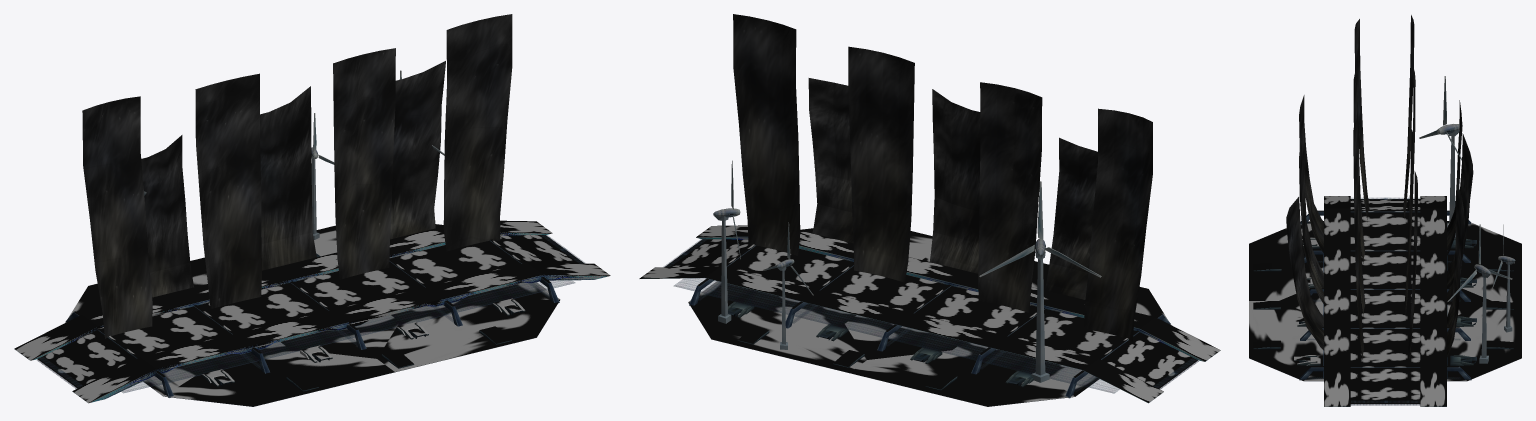
File: floor-flying.glb
The picture shows the model from 3 angles, left to right: view 1: azimuth 30°, elevation 25°; view 2: azimuth 150°, elevation 25°; view 3: azimuth 270°, elevation 25°; orthographic projection. The views are drawn at different scales.
Parts seen in each view (by area): view 1: NShadow1 (×2), StgStadium00Hikou (×5), NShadow2, kazeBA04, kazeBA01, kazeBA02, kazeBA03; view 2: StgStadium00Hikou (×7), NShadow1 (×2), NShadow2, kazeBA03, kazeBA04, kazeBA01, kazeBA02, HikouHusya2, Hane01, HikouHusya3; view 3: NShadow1 (×2), NShadow2, StgStadium00Hikou (×6), kazeBA02, kazeBA04, kazeBA03, kazeBA01, HikouHusya3, HikouHusya2, HikouHusya1, Hane01, Hane01_1.
Part boxes in pixels (x1,y1,x2,y2): NShadow1 (×2): (14, 220, 610, 402); StgStadium00Hikou (×5): (31, 61, 602, 401); NShadow2: (65, 224, 560, 406); kazeBA04: (443, 14, 512, 251); kazeBA01: (195, 73, 261, 308); kazeBA02: (82, 96, 152, 338); kazeBA03: (333, 48, 395, 279); StgStadium00Hikou (×7): (642, 78, 1204, 402); NShadow1 (×2): (639, 225, 1220, 402); NShadow2: (688, 228, 1170, 406); kazeBA03: (848, 46, 914, 282); kazeBA04: (733, 14, 800, 255); kazeBA01: (978, 82, 1042, 312); kazeBA02: (1084, 108, 1152, 341); HikouHusya2: (1031, 251, 1049, 382); Hane01: (979, 181, 1101, 277); HikouHusya3: (713, 215, 731, 323); NShadow1 (×2): (1311, 196, 1459, 406); NShadow2: (1249, 221, 1521, 380); StgStadium00Hikou (×6): (1253, 95, 1513, 402); kazeBA02: (1354, 15, 1414, 221); kazeBA04: (1354, 163, 1417, 362); kazeBA03: (1353, 118, 1413, 318); kazeBA01: (1353, 67, 1415, 266); HikouHusya3: (1479, 273, 1489, 363); HikouHusya2: (1448, 129, 1459, 238); HikouHusya1: (1504, 261, 1514, 332); Hane01: (1419, 76, 1461, 160); Hane01_1: (1447, 224, 1512, 301).
Size of the model in its own units: 187 by 84.52 by 102.
15 materials, 15 textured.
